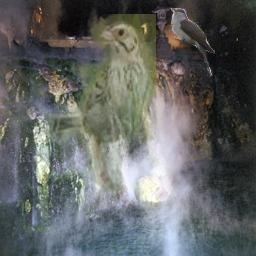Cuckoo: (171, 8, 215, 76)
Sparrow: (46, 14, 156, 194)
